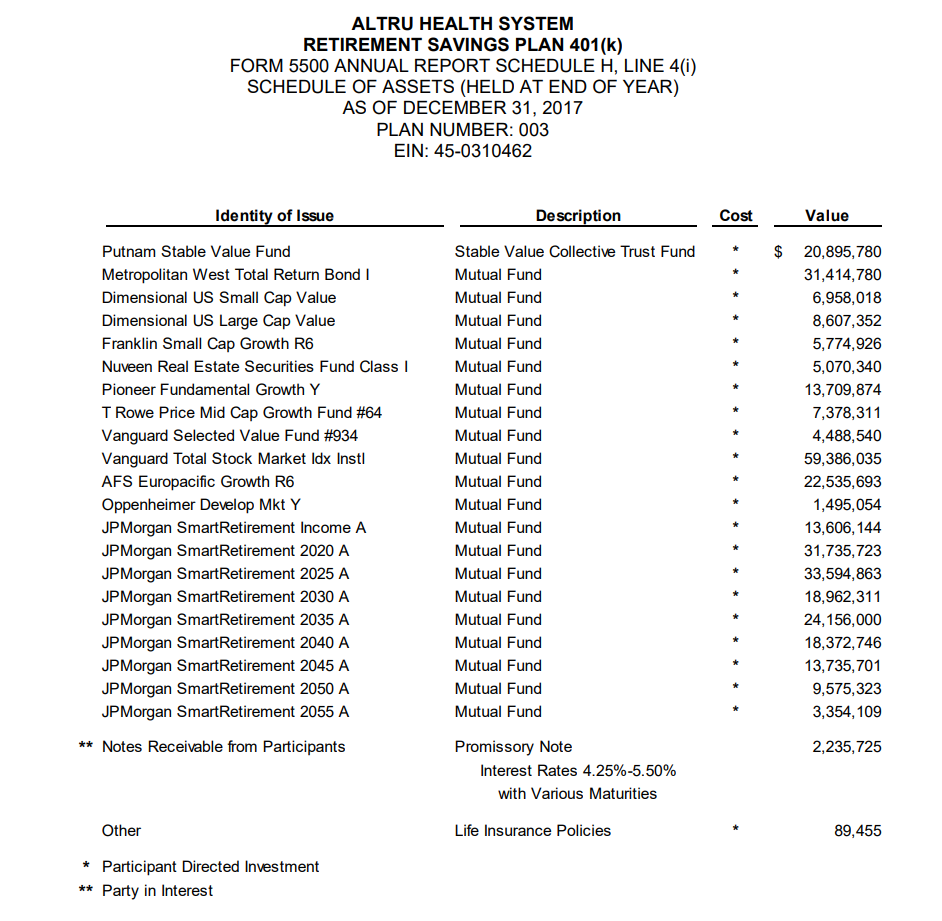Bless: (57, 185, 899, 849)
cell: (454, 737, 677, 804), (100, 656, 353, 679), (101, 450, 368, 471), (99, 735, 346, 756), (102, 404, 383, 422), (102, 611, 351, 630), (100, 703, 353, 721), (102, 544, 353, 562), (103, 518, 368, 535), (103, 566, 353, 584), (100, 427, 361, 444), (100, 267, 372, 283), (101, 360, 410, 374), (453, 243, 700, 260), (100, 335, 318, 354), (101, 590, 353, 606), (104, 637, 353, 653), (100, 241, 294, 261), (101, 289, 340, 305), (101, 381, 323, 398), (100, 314, 340, 329), (101, 684, 353, 697), (102, 475, 297, 491), (207, 203, 341, 226), (102, 497, 302, 512), (454, 824, 621, 841), (770, 241, 883, 262), (452, 379, 544, 400), (453, 609, 548, 629), (455, 520, 544, 539), (531, 206, 622, 224), (453, 264, 544, 282), (453, 335, 544, 353), (799, 288, 889, 306), (453, 681, 543, 699), (454, 473, 543, 491), (453, 564, 541, 582), (453, 359, 544, 376), (803, 563, 884, 582), (802, 474, 884, 492), (454, 313, 546, 329), (800, 266, 886, 283), (452, 406, 543, 422), (453, 499, 544, 515), (453, 545, 543, 561), (453, 452, 548, 467), (812, 703, 887, 722), (453, 429, 542, 445), (453, 592, 546, 607), (804, 542, 885, 559), (806, 312, 885, 329), (453, 290, 542, 305), (814, 738, 884, 757), (804, 381, 882, 398), (806, 405, 884, 422), (805, 657, 883, 674), (805, 519, 886, 535), (805, 612, 881, 629), (813, 679, 889, 696), (804, 635, 884, 651), (810, 335, 882, 352), (803, 589, 883, 604), (813, 497, 883, 514), (803, 452, 882, 467), (455, 704, 546, 717), (810, 358, 883, 374), (454, 637, 543, 650), (808, 430, 884, 443), (456, 662, 543, 673), (801, 206, 852, 224), (831, 823, 883, 838), (711, 207, 757, 223), (99, 823, 142, 839), (725, 242, 748, 259), (725, 264, 748, 281), (725, 379, 745, 393), (728, 470, 745, 486), (726, 310, 745, 324), (728, 632, 745, 647), (727, 291, 748, 303), (729, 610, 747, 624), (727, 450, 744, 464), (726, 358, 745, 370), (727, 333, 744, 346), (728, 541, 745, 554), (729, 563, 744, 577), (730, 677, 745, 691), (728, 405, 745, 417), (728, 820, 742, 834), (730, 518, 741, 534), (728, 703, 744, 714), (728, 426, 741, 438), (728, 657, 741, 668), (730, 587, 741, 599), (731, 498, 741, 505)
